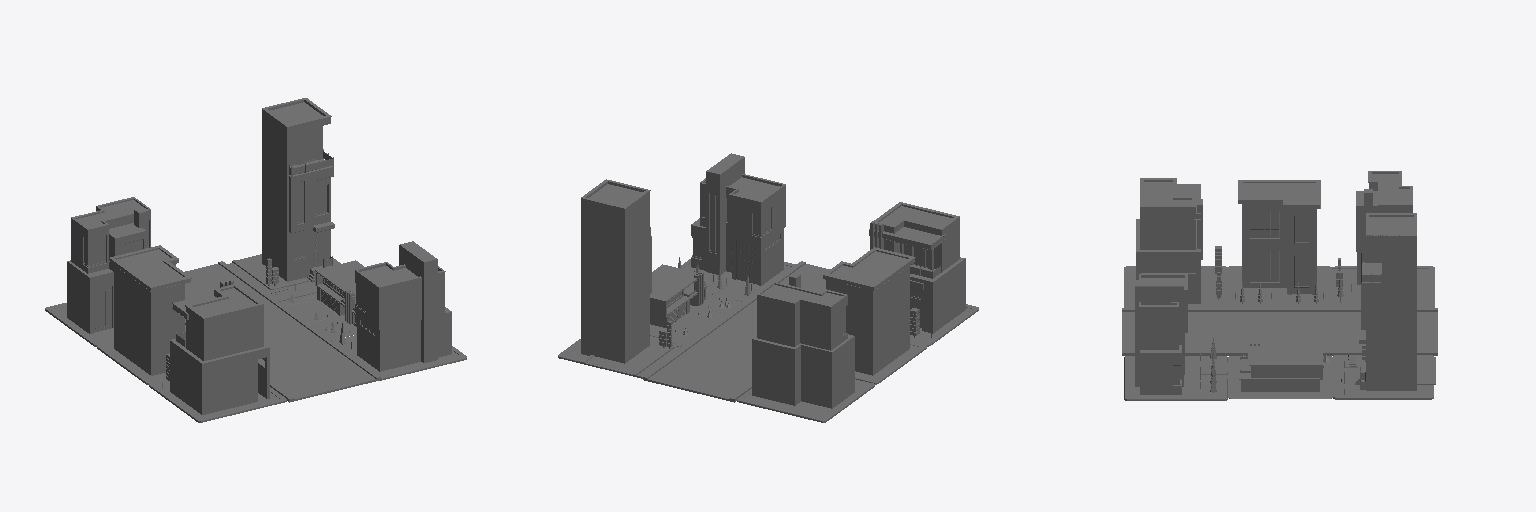
File: road1.obj
3 renders of one model, left to right at view 1: azimuth 30°, elevation 25°; view 2: azimuth 150°, elevation 25°; view 3: azimuth 270°, elevation 25°, orthographic.
Visible parts, largest first — view 1: Medium_Straight_Road_001, Box437_Mesh_164, Box644_Mesh_238, Box345_Mesh_313, Box335_Mesh_309, Box524_Mesh_122, Box523_Mesh_121, Box522_Mesh_120, Box658_Mesh_235, Line017_Mesh_194, Object093_Mesh_304, Object141_Mesh_171 (+16 smaller); view 2: Box437_Mesh_164, Medium_Straight_Road_001, Line017_Mesh_194, Box644_Mesh_238, Box422_Mesh_187, Box345_Mesh_313, Box523_Mesh_121, Box658_Mesh_235, Box524_Mesh_122, Box582_Mesh_063, Box335_Mesh_309, Object100_Mesh_311 (+17 smaller); view 3: Medium_Straight_Road_001, Box437_Mesh_164, Box335_Mesh_309, Object215_Mesh_229, Box658_Mesh_235, Box644_Mesh_238, Box582_Mesh_063, Box523_Mesh_121, Box345_Mesh_313, Box522_Mesh_120, Object276_Mesh_119, Line022_Mesh_129 (+19 smaller).
Boxes of the visible parts, x1=… form: Medium_Straight_Road_001: x1=184, y1=261, x2=380, y2=402; Box437_Mesh_164: x1=262, y1=110, x2=330, y2=281; Box644_Mesh_238: x1=114, y1=266, x2=184, y2=375; Box345_Mesh_313: x1=170, y1=339, x2=269, y2=414; Box335_Mesh_309: x1=186, y1=291, x2=263, y2=360; Box524_Mesh_122: x1=355, y1=271, x2=444, y2=329; Box523_Mesh_121: x1=399, y1=241, x2=437, y2=362; Box522_Mesh_120: x1=380, y1=307, x2=451, y2=371; Box658_Mesh_235: x1=109, y1=245, x2=191, y2=291; Line017_Mesh_194: x1=67, y1=260, x2=113, y2=333; Object093_Mesh_304: x1=213, y1=359, x2=257, y2=412; Object141_Mesh_171: x1=290, y1=128, x2=332, y2=266; Box437_Mesh_164: x1=581, y1=192, x2=649, y2=363; Medium_Straight_Road_001: x1=643, y1=261, x2=829, y2=402; Line017_Mesh_194: x1=752, y1=334, x2=854, y2=408; Box644_Mesh_238: x1=829, y1=266, x2=909, y2=374; Box422_Mesh_187: x1=757, y1=295, x2=847, y2=350; Box345_Mesh_313: x1=910, y1=257, x2=965, y2=333; Box523_Mesh_121: x1=706, y1=153, x2=744, y2=274; Box658_Mesh_235: x1=823, y1=247, x2=915, y2=290; Box524_Mesh_122: x1=729, y1=185, x2=785, y2=244; Box582_Mesh_063: x1=650, y1=264, x2=707, y2=316; Box335_Mesh_309: x1=884, y1=218, x2=959, y2=271; Object100_Mesh_311: x1=874, y1=202, x2=959, y2=230; Medium_Straight_Road_001: x1=1122, y1=308, x2=1437, y2=355; Box437_Mesh_164: x1=1366, y1=236, x2=1416, y2=390; Box335_Mesh_309: x1=1140, y1=209, x2=1195, y2=249; Object215_Mesh_229: x1=1250, y1=211, x2=1308, y2=285; Box658_Mesh_235: x1=1238, y1=180, x2=1320, y2=208; Box644_Mesh_238: x1=1242, y1=204, x2=1286, y2=287; Box582_Mesh_063: x1=1239, y1=345, x2=1322, y2=379; Box523_Mesh_121: x1=1135, y1=280, x2=1183, y2=386; Box345_Mesh_313: x1=1136, y1=219, x2=1200, y2=303; Box522_Mesh_120: x1=1140, y1=345, x2=1181, y2=394; Object276_Mesh_119: x1=1139, y1=307, x2=1178, y2=349; Line022_Mesh_129: x1=1124, y1=356, x2=1227, y2=400.
Bounding box in the file's own units: 19.94 × 11.21 × 20.3.